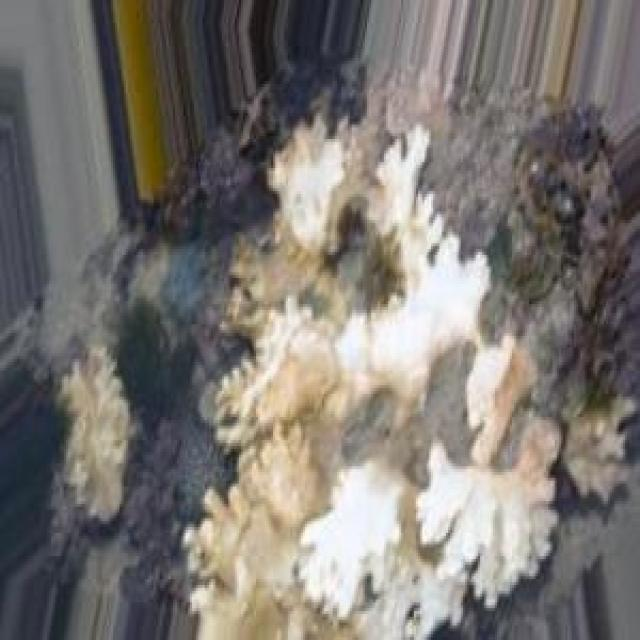Bleached: (186, 116, 562, 639)
